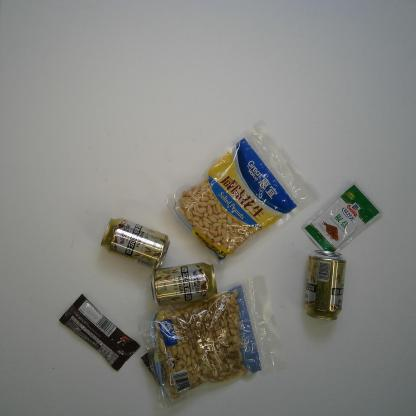Alcohol: (99, 217, 171, 271), (302, 248, 348, 322), (149, 260, 218, 306)
Chocolate: (59, 293, 141, 372), (140, 348, 167, 388)
Dried Fruit: (162, 116, 320, 271), (137, 274, 287, 410)
Seasoner: (301, 180, 384, 253)
